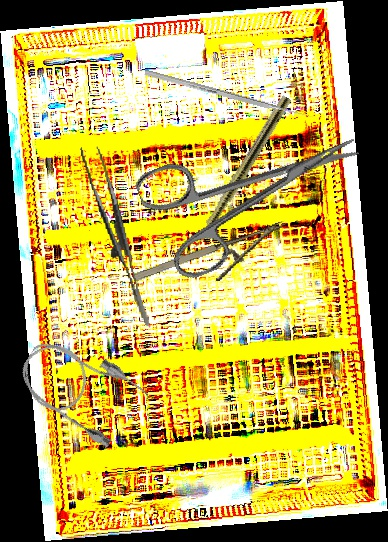Cannula: (9, 323, 153, 453)
Handpiece: (185, 93, 293, 259)
Iris Scissors: (132, 96, 380, 286)
Needle Holder: (130, 220, 297, 306)
Pusher: (144, 69, 314, 121)
Tissue Forceps: (80, 141, 150, 332)
